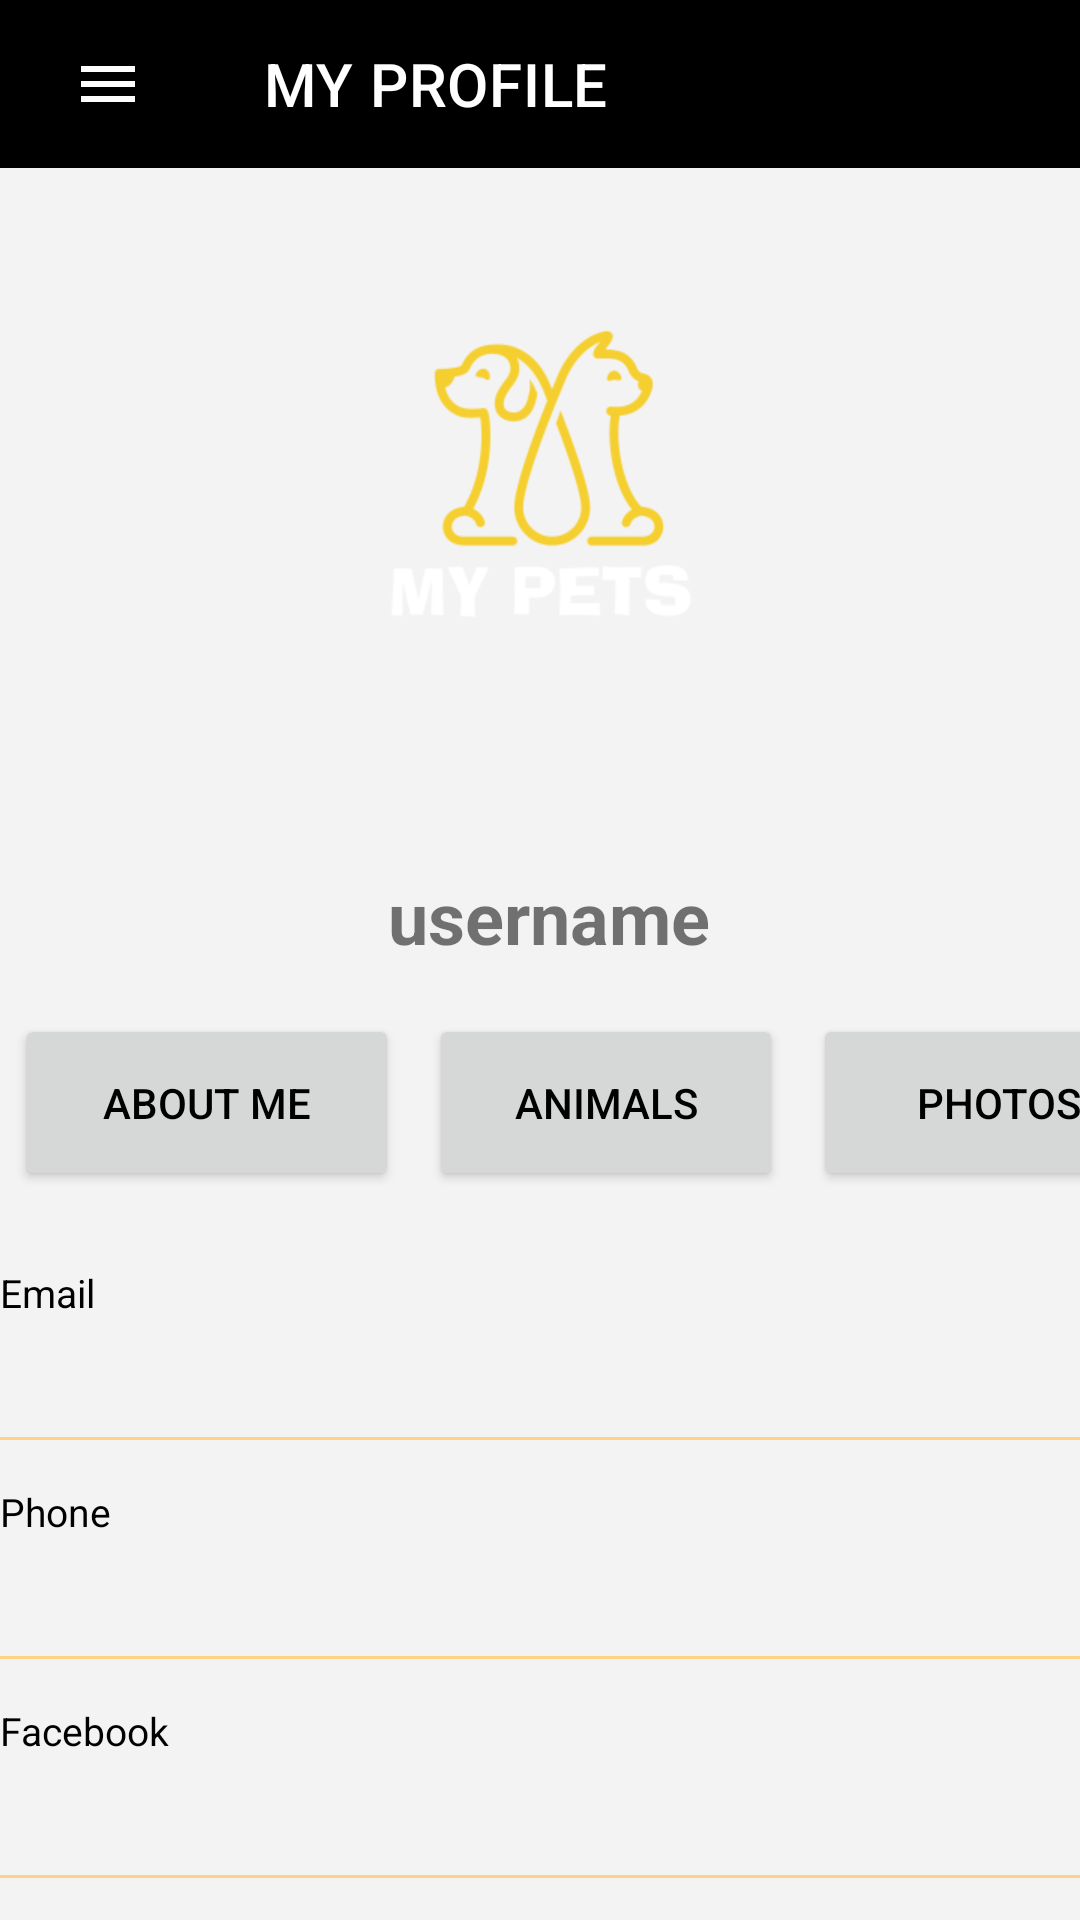

Screen size 1080 × 1920. Icon name, then its center in pixels as (x=x, y=y):
menu: (x=108, y=84)
